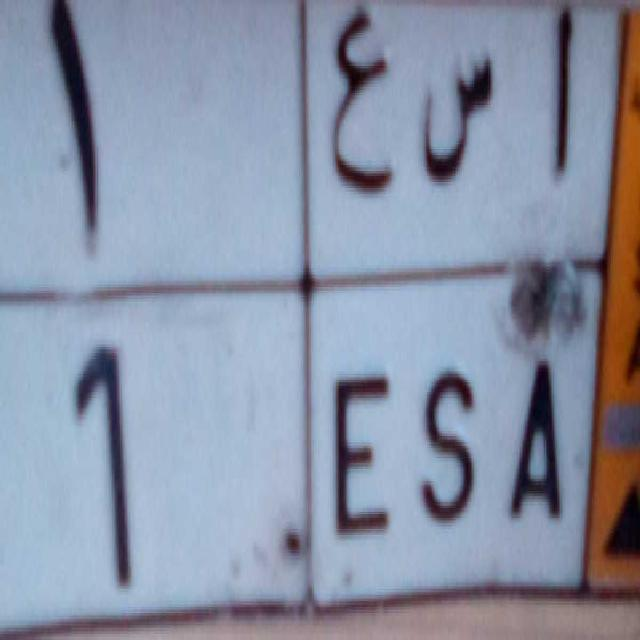license_plate: (0, 282, 598, 639)
